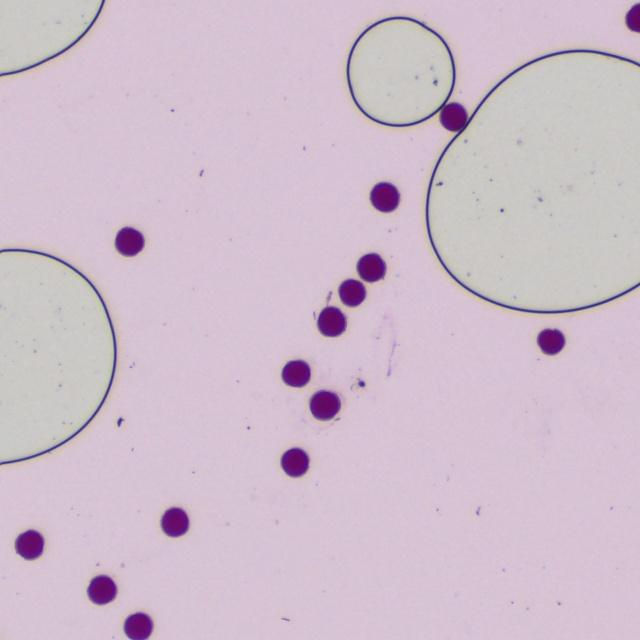viable: (370, 182, 399, 212), (87, 575, 116, 604), (310, 391, 340, 419), (317, 306, 345, 336), (357, 253, 385, 282), (161, 507, 188, 536), (16, 530, 43, 559), (281, 448, 308, 476), (282, 360, 310, 387), (116, 227, 143, 255), (124, 612, 152, 639), (339, 279, 365, 306), (440, 103, 466, 130), (537, 329, 564, 354), (626, 4, 639, 31)
